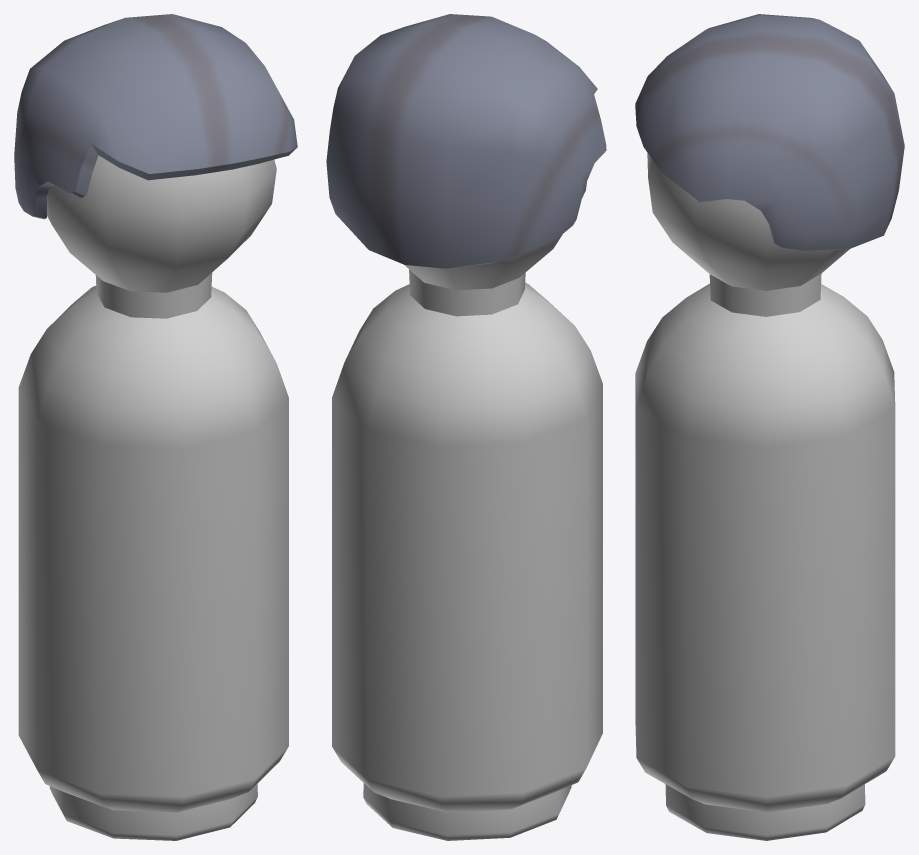
The model's file is Peg_Shirt_Short_GreyHair.fbx.
The picture shows the model from 3 angles, left to right: view 1: azimuth 30°, elevation 25°; view 2: azimuth 150°, elevation 25°; view 3: azimuth 270°, elevation 25°; orthographic projection.
Visible parts, largest first — view 1: Peg_Shirt_Short_GreyHair; view 2: Peg_Shirt_Short_GreyHair; view 3: Peg_Shirt_Short_GreyHair.
Boxes of the visible parts, <box> form: Peg_Shirt_Short_GreyHair: <box>14,14,297,840</box>; Peg_Shirt_Short_GreyHair: <box>326,14,606,840</box>; Peg_Shirt_Short_GreyHair: <box>635,14,904,840</box>.
Size of the model in its own units: 1.92 by 5.9 by 1.87.
